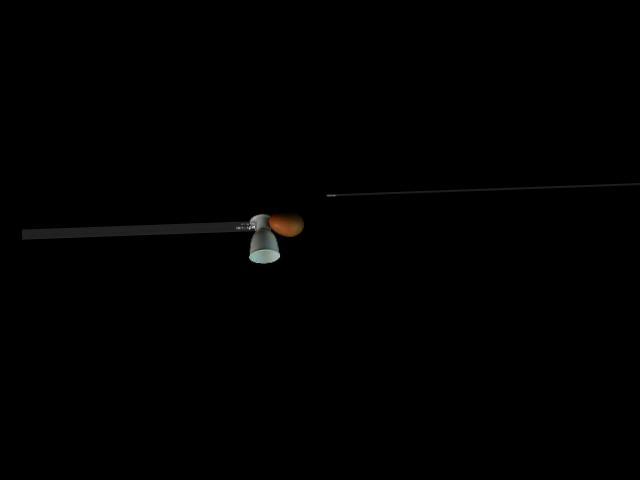egg: (268, 211, 303, 237)
